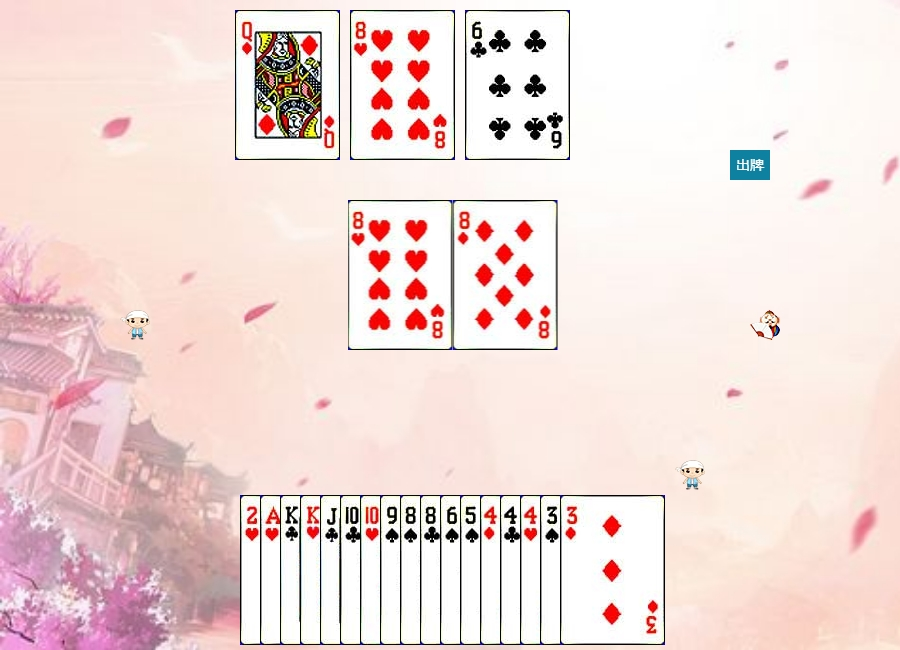10~2: (340, 495, 445, 645)
10~3: (360, 495, 465, 645)
11~2: (320, 495, 425, 645)
12~1: (235, 10, 340, 160)
13~2: (280, 495, 385, 645)
13~3: (300, 495, 405, 645)
14~3: (260, 495, 365, 645)
15~3: (240, 495, 345, 645)
3~1: (560, 495, 665, 645)
3~4: (540, 495, 645, 645)
4~1: (480, 495, 585, 645)
4~2: (500, 495, 605, 645)
4~3: (520, 495, 625, 645)
5~4: (460, 495, 565, 645)
6~2: (465, 10, 570, 160)
6~4: (440, 495, 545, 645)
8~1: (453, 200, 558, 350)
8~2: (420, 495, 525, 645)
8~3: (350, 10, 455, 160), (348, 200, 453, 350)
8~4: (400, 495, 505, 645)
9~4: (380, 495, 485, 645)
